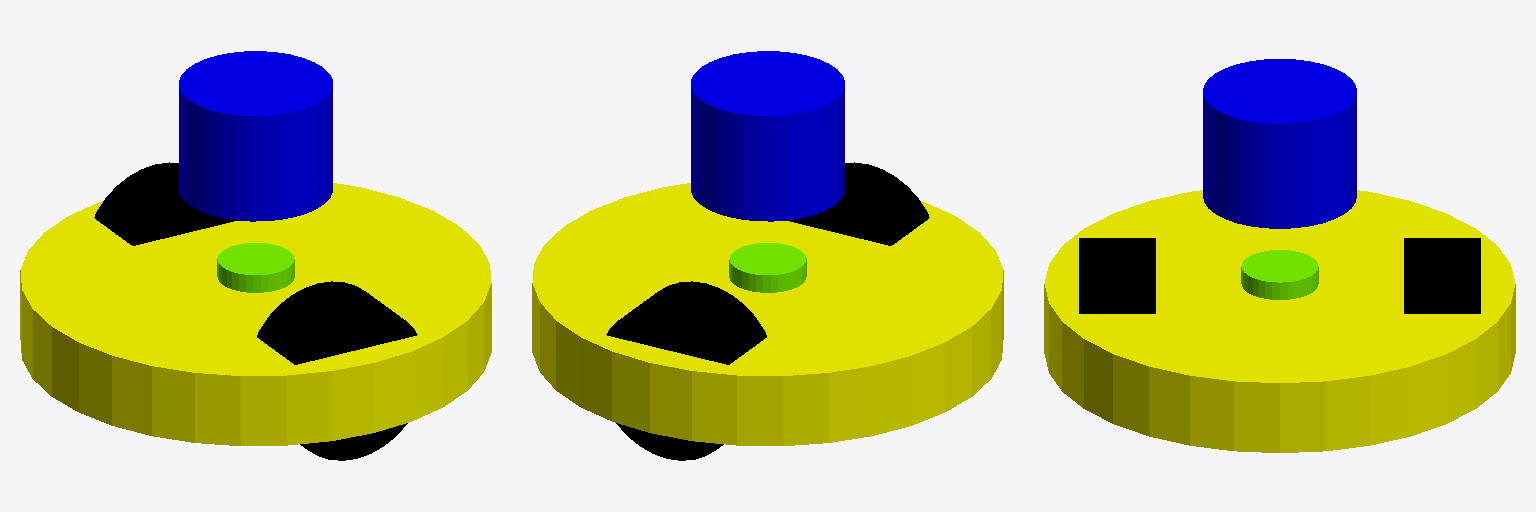
URDF robot description (miniq):
<?xml version="1.0"?>

<robot
	name="miniq"
	xmlns:xi="http://www.w3.org/2001/XInclude"
	xmlns:gazebo="http://playerstage.sourceforge.net/gazebo/xmlschema/#gz"
	xmlns:model="http://playerstage.sourceforge.net/gazebo/xmlschema/#model"
	xmlns:sensor="http://playerstage.sourceforge.net/gazebo/xmlschema/#sensor"
	xmlns:body="http://playerstage.sourceforge.net/gazebo/xmlschema/#body"
	xmlns:geom="http://playerstage.sourceforge.net/gazebo/xmlschema/#geom"
	xmlns:joint="http://playerstage.sourceforge.net/gazebo/xmlschema/#joint"
	xmlns:interface="http://playerstage.sourceforge.net/gazebo/xmlschema/#interface"
	xmlns:rendering="http://playerstage.sourceforge.net/gazebo/xmlschema/#rendering"
	xmlns:renderable="http://playerstage.sourceforge.net/gazebo/xmlschema/#renderable"
	xmlns:controller="http://playerstage.sourceforge.net/gazebo/xmlschema/#controller"
	xmlns:physics="http://playerstage.sourceforge.net/gazebo/xmlschema/#physics"
>

	<link name="base_link">
		<inertial>
			<mass value="0.0001" />
			<origin xyz="0 0 0" />
			<inertia
				ixx="0.0001"
				ixy="0.0"
				ixz="0.0"
				iyy="0.0001"
				iyz="0.0"
				izz="0.0001" />
		</inertial>
		<visual>
			<origin
				rpy="0 0 0"
				xyz="0 0 0" />
			<geometry>
				<cylinder
					length="0.02"
					radius="0.061" />
			</geometry>
			<material name="body">
				<color rgba="1 1 0 1" />
			</material>
		</visual>
		<collision>
			<geometry>
				<cylinder
					length="0.02"
					radius="0.061" />
			</geometry>
		</collision>
	</link>

	<link name="imu_link">
		<inertial>
			<mass value="0.0001" />
			<origin xyz="0 0 0" />
			<inertia
				ixx="0.0001"
				ixy="0.0"
				ixz="0.0"
				iyy="0.0001"
				iyz="0.0"
				izz="0.0001" />
		</inertial>
		<visual>
			<origin
				rpy="0 0 0"
				xyz="0 0 0" />
			<geometry>
				<cylinder
					length="0.01"
					radius="0.01" />
			</geometry>
			<material name="imu">
				<color rgba="0.5 1 0 1" />
			</material>
		</visual>
		<collision>
			<geometry>
				<cylinder
					length="0.01"
					radius="0.01" />
			</geometry>
		</collision>
	</link>

	<joint
		name="joint_imu"
		type="fixed"
	>
		<parent link="base_link" />
		<child link="imu_link" />
		<origin
			xyz="0 0 0.01"
			rpy="0 0 0" />
	</joint>

	<link name="hokuyo_link">
		<inertial>
			<mass value="0.0001" />
			<origin xyz="0 0 0" />
			<inertia
				ixx="0.0001"
				ixy="0.0"
				ixz="0.0"
				iyy="0.0001"
				iyz="0.0"
				izz="0.0001" />
		</inertial>
		<visual>
			<origin
				rpy="0 0 0"
				xyz="0 0 0" />
			<geometry>
				<cylinder
					length="0.03"
					radius="0.02" />
			</geometry>
			<material name="hokuyo">
				<color rgba="0 0 1 1" />
			</material>
		</visual>
		<collision>
			<geometry>
				<cylinder
					length="0.03"
					radius="0.02" />
			</geometry>
		</collision>
	</link>

	<joint
		name="joint_hokuyo"
		type="fixed"
	>
		<parent link="base_link" />
		<child link="hokuyo_link" />
		<origin
			xyz="0 0 0.05"
			rpy="0 0 0" />
	</joint>

	<link name="left_wheel">
		<inertial>
			<mass value="0.0001" />
			<origin xyz="0 0 0" />
			<inertia
				ixx="0.0001"
				ixy="0.0"
				ixz="0.0"
				iyy="0.0001"
				iyz="0.0"
				izz="0.0001" />
		</inertial>
		<visual>
			<origin
				rpy="0 0 0"
				xyz="0 0 0" />
			<geometry>
				<cylinder
					length="0.02"
					radius="0.021" />
			</geometry>
			<material name="black">
				<color rgba="0 0 0 1" />
			</material>
		</visual>
		<collision>
			<geometry>
				<cylinder
					length="0.02"
					radius="0.021" />
			</geometry>
		</collision>
	</link>

	<joint
		name="joint_left_wheel"
		type="continuous"
	>
		<parent link="base_link" />
		<child link="left_wheel" />
		<origin
			xyz="0 0.042 0"
			rpy="1.57079633 0 0" />
		<axis xyz="0 1 0" />
		<limit
			effort="100"
			velocity="100" />
		<joint_properties
			damping="0.0"
			friction="0.0" />
	</joint>

	<link name="right_wheel">
		<inertial>
			<mass value="0.0001" />
			<origin xyz="0 0 0" />
			<inertia
				ixx="0.0001"
				ixy="0.0"
				ixz="0.0"
				iyy="0.0001"
				iyz="0.0"
				izz="0.0001" />
		</inertial>
		<visual>
			<origin
				rpy="0 0 0"
				xyz="0 0 0" />
			<geometry>
				<cylinder
					length="0.02"
					radius="0.021" />
			</geometry>
			<material name="black">
				<color rgba="0 0 0 1" />
			</material>
		</visual>
		<collision>
			<geometry>
				<cylinder
					length="0.02"
					radius="0.021" />
			</geometry>
		</collision>
	</link>

	<joint
		name="joint_right_wheel"
		type="continuous"
	>
		<parent link="base_link" />
		<child link="right_wheel" />
		<origin
			xyz="0 -0.042 0"
			rpy="-1.57079633 0 0" />
		<axis xyz="0 1 0" />
		<limit
			effort="100"
			velocity="100" />
		<joint_properties
			damping="0.0"
			friction="0.0" />
	</joint>

    <!--    
    <include filename="$(find lrm_multi_robot)/urdf/robot-gazebo.urdf" />
    -->

	<transmission
		name="joint_lw_trans"
		type="pr2_mechanism_model/SimpleTransmission"
	>
		<actuator name="joint_lw_motor" />
		<joint name="joint_left_wheel" />
		<mechanicalReduction>1</mechanicalReduction>
		<motorTorqueConstant>1</motorTorqueConstant>
	</transmission>

	<transmission
		name="joint_rw_trans"
		type="pr2_mechanism_model/SimpleTransmission"
	>
		<actuator name="joint_rw_motor" />
		<joint name="joint_right_wheel" />
		<mechanicalReduction>1</mechanicalReduction>
		<motorTorqueConstant>1</motorTorqueConstant>
	</transmission>

	<gazebo>

		<controller:gazebo_ros_controller_manager
			name="gazebo_ros_controller_manager"
			plugin="libgazebo_ros_controller_manager.so"
		>
			<alwaysOn>true</alwaysOn>
			<updateRate>1000.0</updateRate>
			<interface:audio name="gazebo_ros_controller_manager_dummy_iface" />
		</controller:gazebo_ros_controller_manager>


		<controller:gazebo_ros_imu
			name="imu_controller"
			plugin="libgazebo_ros_imu.so"
		>
			<alwaysOn>true</alwaysOn>
			<updateRate>30.0</updateRate>
			<bodyName>imu_link</bodyName>
			<topicName>imu_data</topicName>
			<serviceName>imu_service</serviceName>
			<gaussianNoise>2.89e-08</gaussianNoise>
			<interface:position name="imu_link_position" />
		</controller:gazebo_ros_imu>

		<controller:gazebo_ros_p3d
			name="p3d_base_controller"
			plugin="libgazebo_ros_p3d.so"
		>
			<alwaysOn>true</alwaysOn>
			<updateRate>10.0</updateRate>
			<bodyName>base_link</bodyName>
			<topicName>odom_gazebo</topicName>
			<gaussianNoise>0.01</gaussianNoise>
			<frameName>base_link</frameName>
			<xyzOffset>0 0 0</xyzOffset>
			<rpyOffset>0 0 0</rpyOffset>
			<interface:position name="base_footprint_position" />
		</controller:gazebo_ros_p3d>

	</gazebo>

	<gazebo reference="hokuyo_link">
		<material>Gazebo/Blue</material>
		<turnGravityOff>false</turnGravityOff>
		<sensor:ray name="hokuyo_laser">
			<rayCount>640</rayCount>
			<rangeCount>640</rangeCount>
			<laserCount>1</laserCount>
			<origin>0.0 0.0 0.0</origin>
			<displayRays>fan</displayRays>
			<minAngle>-180.0</minAngle>
			<maxAngle>180.0</maxAngle>
			<minRange>0.05</minRange>
			<maxRange>30.1</maxRange>
			<resRange>0.001</resRange>
			<updateRate>10.0</updateRate>
			<controller:gazebo_ros_laser
				name="gazebo_ros_hokuyo_laser_controller02"
				plugin="libgazebo_ros_laser.so"
			>
				<hokuyoMinIntensity>101</hokuyoMinIntensity>
				<gaussianNoise>0.005</gaussianNoise>
				<alwaysOn>true</alwaysOn>
				<updateRate>10.0</updateRate>
				<topicName>scan</topicName>
				<frameName>hokuyo_link</frameName>
				<interface:laser name="gazebo_ros_hokuyo_laser_iface" />
			</controller:gazebo_ros_laser>
		</sensor:ray>
	</gazebo>

</robot>

--- Render facts (derived) ---
Views: 3 orthographic renders of the robot side by side, from view 1: azimuth 30°, elevation 25°; view 2: azimuth 150°, elevation 25°; view 3: azimuth 270°, elevation 25°.
Robot: miniq — 5 links, 4 joints (2 continuous, 2 fixed); root link base_link; default pose: all joints at 0.
Visible links, largest first — view 1: base_link, hokuyo_link, right_wheel, left_wheel, imu_link; view 2: base_link, hokuyo_link, left_wheel, right_wheel, imu_link; view 3: base_link, hokuyo_link, left_wheel, right_wheel, imu_link.
Link boxes in pixels (box(x1,y1,x2,y2)): base_link: box(20, 183, 491, 445); hokuyo_link: box(179, 51, 332, 221); right_wheel: box(257, 281, 417, 460); left_wheel: box(94, 162, 235, 245); imu_link: box(217, 243, 294, 292); base_link: box(532, 183, 1003, 445); hokuyo_link: box(691, 51, 844, 221); left_wheel: box(606, 281, 766, 460); right_wheel: box(788, 162, 929, 245); imu_link: box(729, 243, 806, 292); base_link: box(1044, 190, 1515, 452); hokuyo_link: box(1203, 59, 1356, 228); left_wheel: box(1404, 238, 1480, 313); right_wheel: box(1079, 238, 1155, 313); imu_link: box(1241, 250, 1318, 299).
Bounding box of the posed robot: 0.122 × 0.122 × 0.086 m (x, y, z).
Geometry: primitives only (box / cylinder / sphere), no mesh files.
